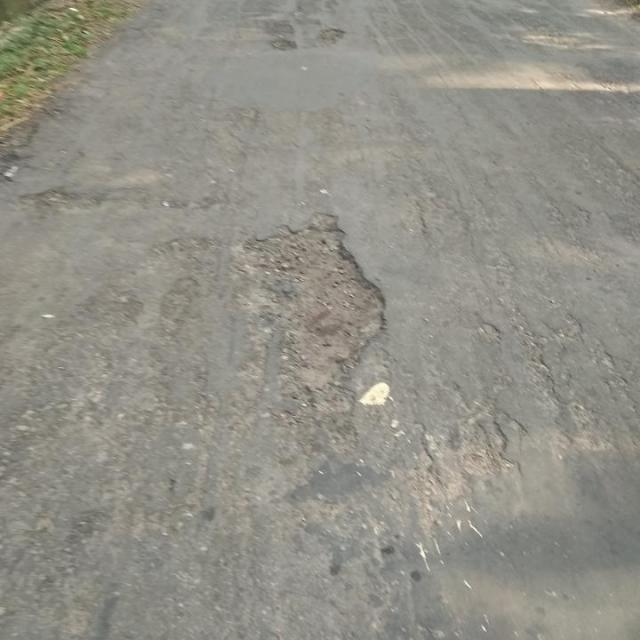pothole: (236, 215, 391, 405), (314, 24, 346, 49), (262, 19, 297, 36), (268, 38, 300, 52)
